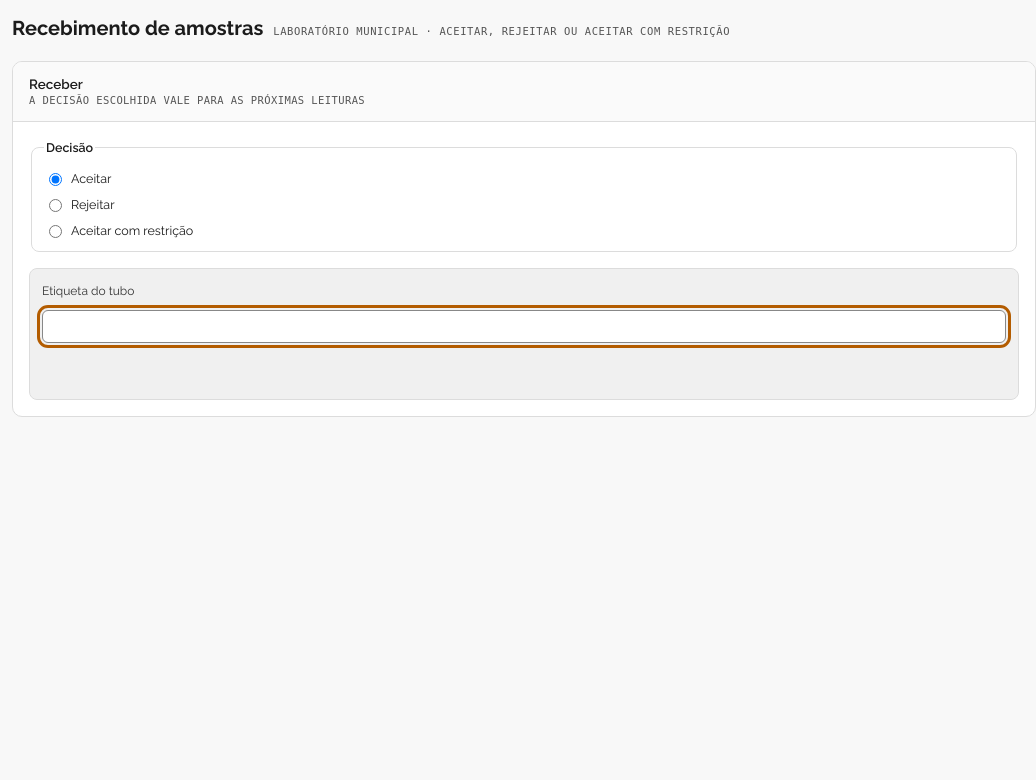
it: LabReception › sem motivos cadastrados avisa em vez de deixar a lista vazia
Step 1. Click the radio button labelled "Rejeitar" → coordinates (56, 205), box [49,199,62,212]
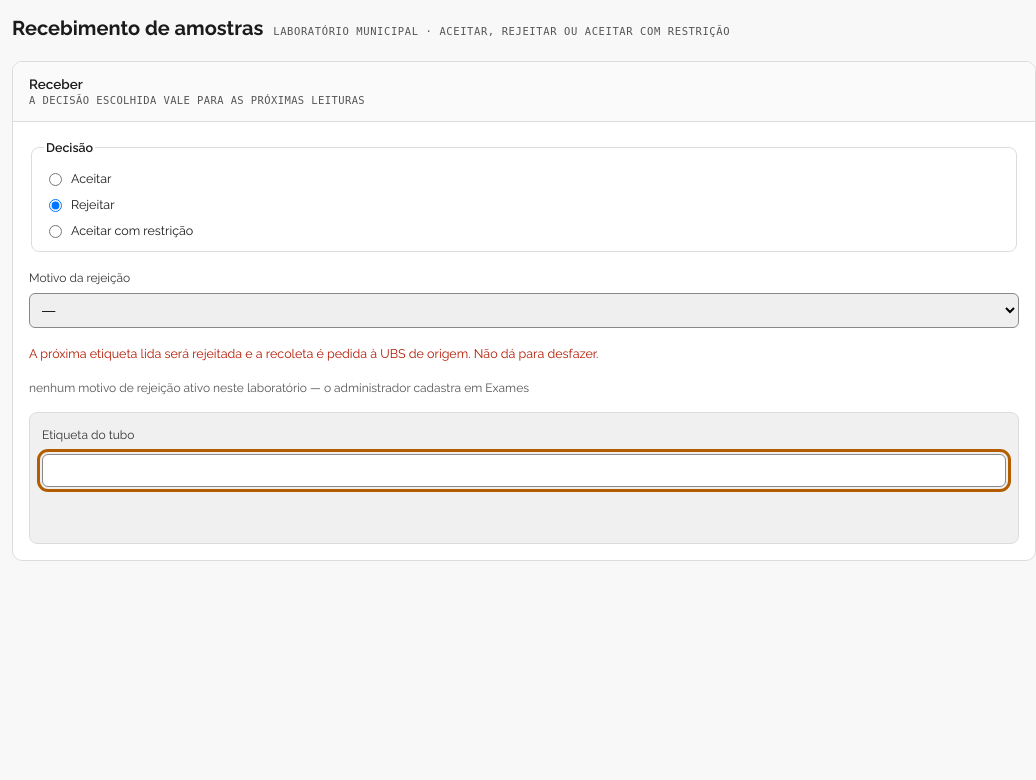
Expected: the text "nenhum motivo de rejeição ativo" is shown, [29,378,529,395]
